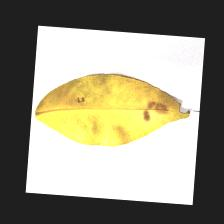black spot: (70, 88, 194, 132)
